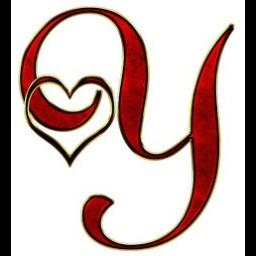y: (72, 3, 236, 253)
